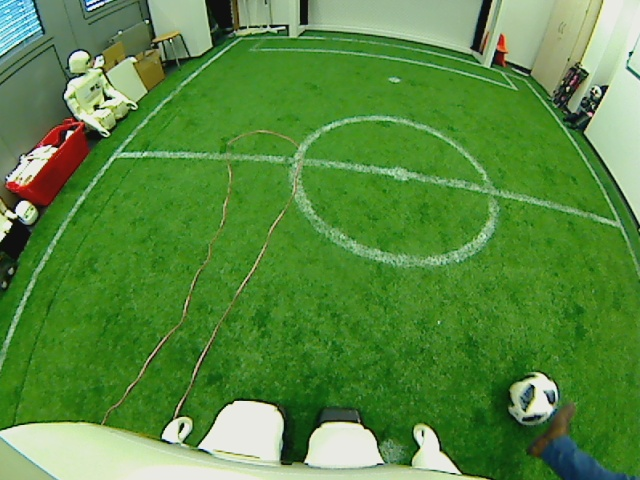ball: (505, 370, 560, 425)
